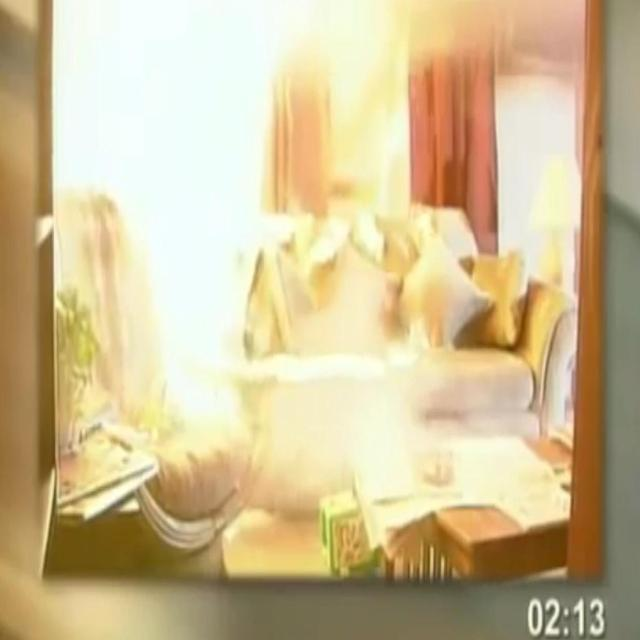smoke: (55, 0, 292, 417)
